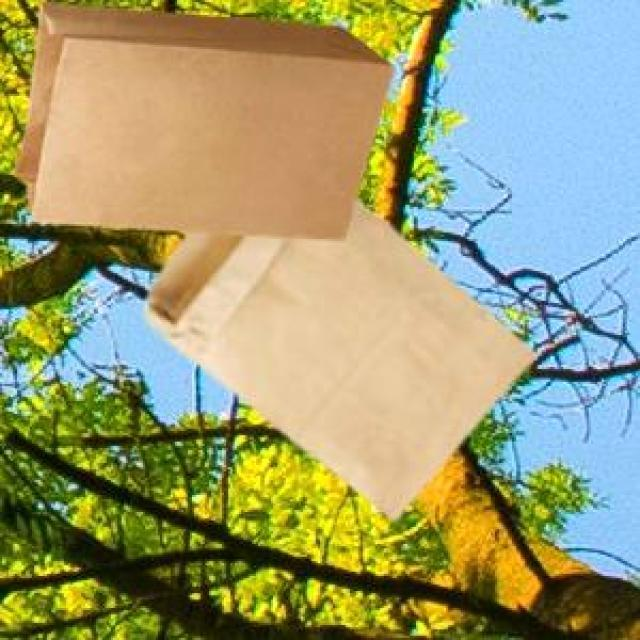Paper_Bag: (142, 198, 530, 516), (12, 1, 390, 236)
